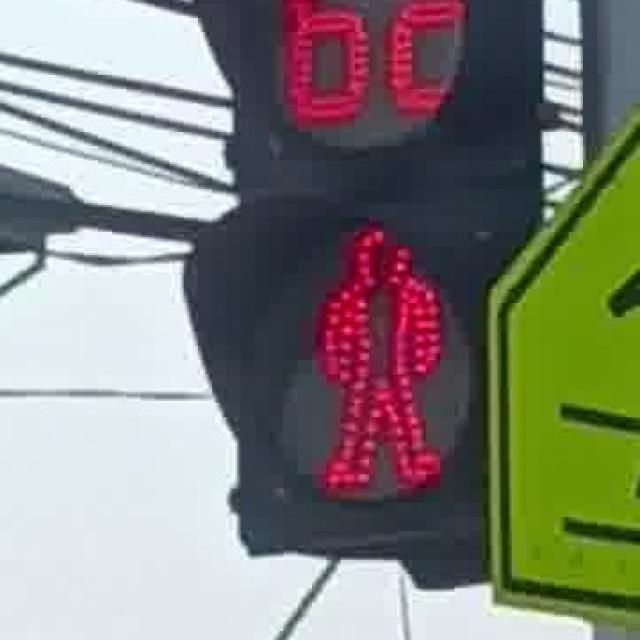red-light: (288, 220, 452, 493)
